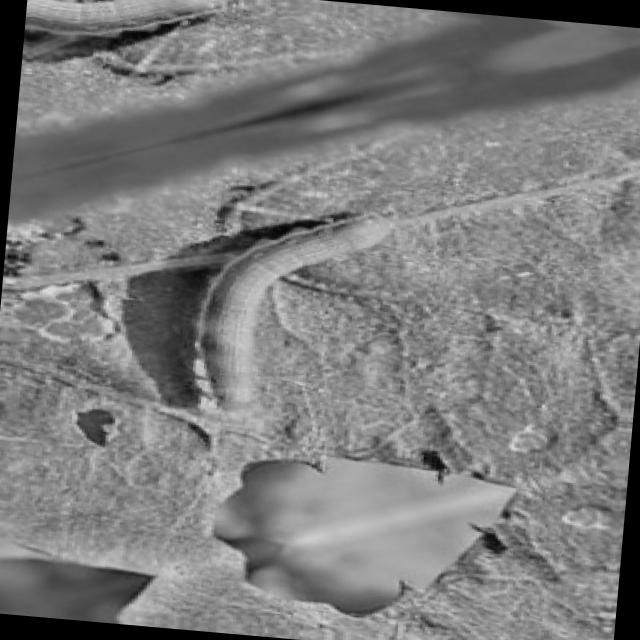Armyworm: (175, 187, 439, 440)
Armyworm_damage: (167, 427, 538, 640), (46, 382, 141, 456)
